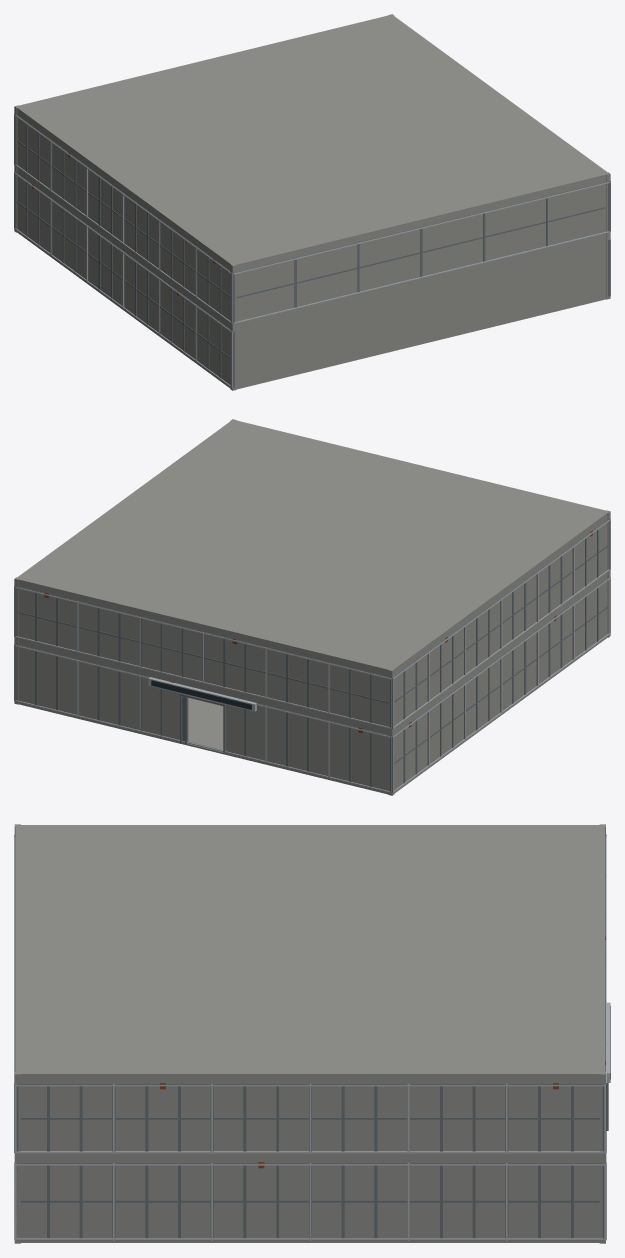
The model's file is tw_glass_24_base.glb.
The picture shows the model from 3 angles, top to bottom: view 1: azimuth 30°, elevation 25°; view 2: azimuth 150°, elevation 25°; view 3: azimuth 270°, elevation 25°; orthographic projection. The views are drawn at different scales.
Visible parts, largest first — view 1: tw_glass_24_base; view 2: tw_glass_24_base; view 3: tw_glass_24_base.
Boxes of the visible parts, x1=… form: tw_glass_24_base: x1=14, y1=14, x2=610, y2=390; tw_glass_24_base: x1=14, y1=419, x2=610, y2=795; tw_glass_24_base: x1=14, y1=824, x2=610, y2=1243.
Size of what is drawn, in the model's own units: 24.14 by 7.6 by 24.31.
3 materials, 3 textured.
